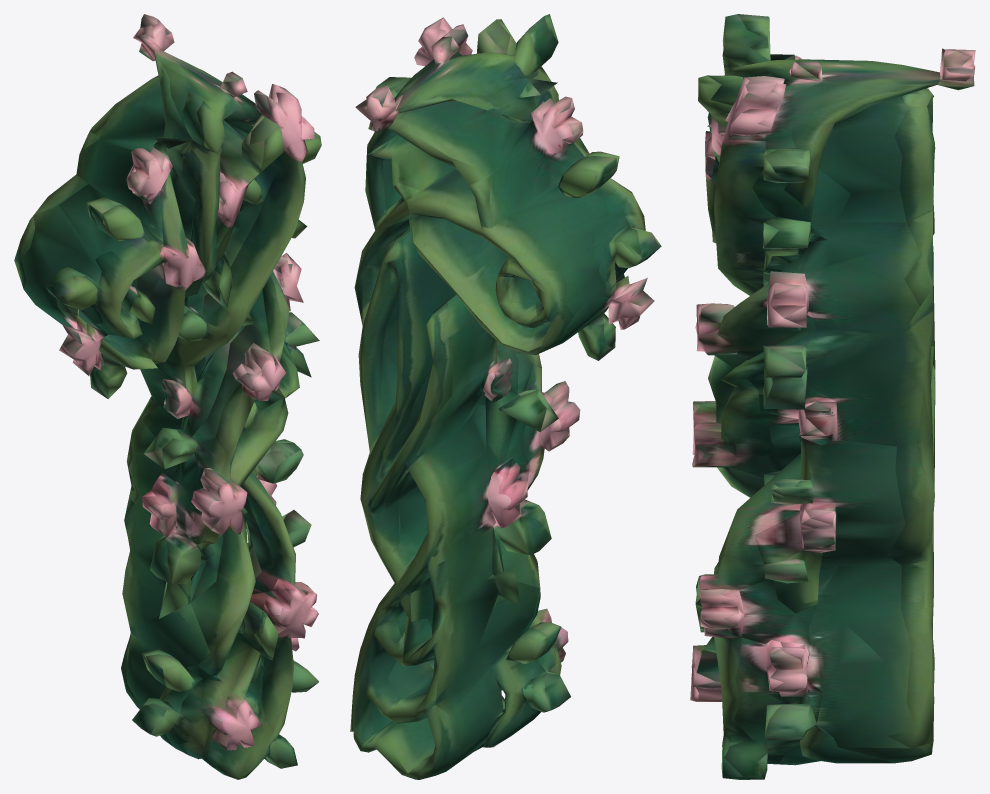
The picture shows the model from 3 angles, left to right: view 1: azimuth 30°, elevation 25°; view 2: azimuth 150°, elevation 25°; view 3: azimuth 270°, elevation 25°; orthographic projection. The views are drawn at different scales.
Parts seen in each view (by area): view 1: node_0; view 2: node_0; view 3: node_0.
Part boxes in pixels (box(x1,y1,x2,y2)): node_0: box(14, 14, 321, 779); node_0: box(350, 14, 661, 779); node_0: box(690, 14, 975, 779).
Bounding box in the file's own units: 2.65 × 6.73 × 2.38.
1 material, 1 textured.
